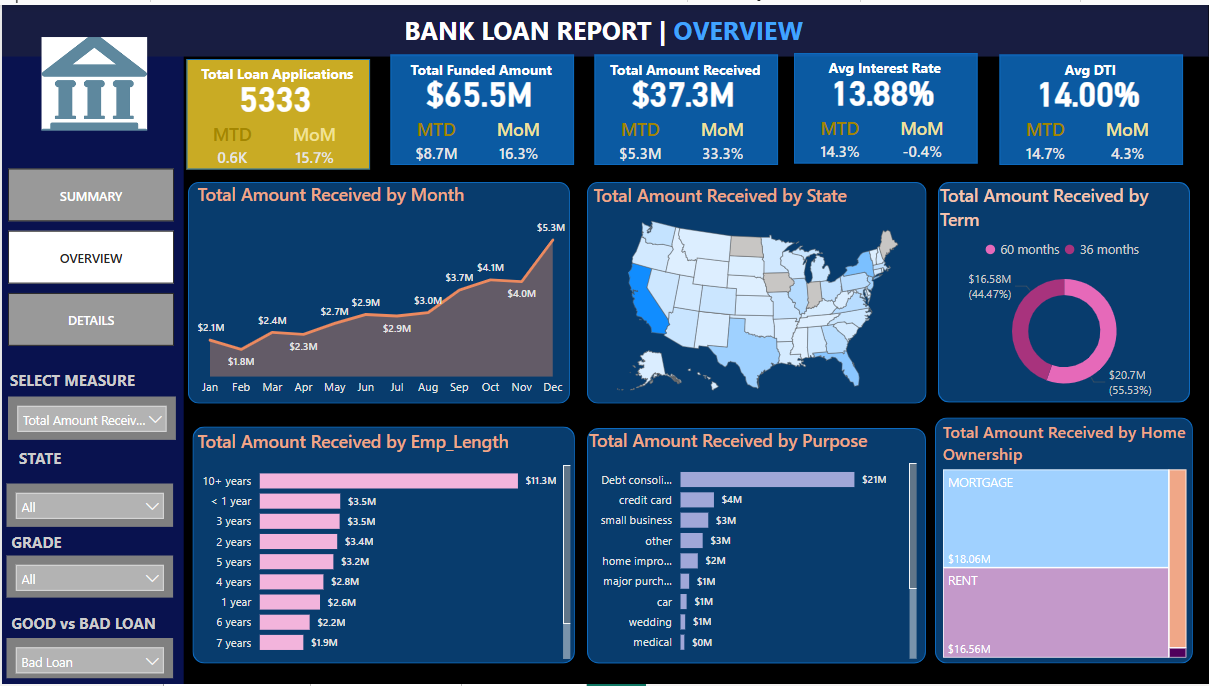

This screenshot's page, from the dashboard's own definition file:
{"tool":"powerbi","page":{"name":"OVERVIEW","canvas":[1280,720],"ordinal":1},"visuals":[{"type":"shape","box":[0,41.6,192.8,679],"z":0},{"type":"shape","box":[196.7,188.3,405,235],"z":1000},{"type":"shape","box":[0,0,1279.4,54.8],"z":2000},{"type":"textbox","box":[421.4,3.8,470.6,51],"z":3000},{"type":"shape","box":[840.1,50.8,194.6,117.2],"z":3000,"group":"g4"},{"type":"shape","box":[411.8,52.5,194.6,117.2],"z":3000,"group":"g2"},{"type":"shape","box":[628.5,52.5,194.6,117.2],"z":3000,"group":"g3"},{"type":"shape","box":[1058.5,52.5,194.6,117.2],"z":3000,"group":"g5"},{"type":"shape","box":[196.8,55.8,194.6,117.2],"z":3000,"group":"g1"},{"type":"card","fields":{"Values":["bank_db financial_loan.Avg Interest Rate"]},"box":[833.3,50,200,82],"z":4000,"group":"g4"},{"type":"card","fields":{"Values":["bank_db financial_loan.Total Funded Amount"]},"box":[405,51.7,200,82],"z":4000,"group":"g2"},{"type":"card","fields":{"Values":["bank_db financial_loan.Total Amount Received"]},"box":[621.7,51.7,200,82],"z":4000,"group":"g3"},{"type":"card","fields":{"Values":["bank_db financial_loan.Avg DTI"]},"box":[1051.7,51.7,200,82],"z":4000,"group":"g5"},{"type":"group","id":"g1","title":"Group 1","box":[190,55,200,118.3],"z":4000},{"type":"card","fields":{"Values":["bank_db financial_loan.Total Loan Application"]},"box":[190,55,200,82],"z":4000,"group":"g1"},{"type":"textbox","box":[845.7,50.8,179.5,35.9],"z":5000,"group":"g4"},{"type":"group","id":"g2","title":"Group 1","box":[405,51.7,200,118.3],"z":5000},{"type":"textbox","box":[417.4,52.5,179.5,35.9],"z":5000,"group":"g2"},{"type":"textbox","box":[634.1,52.5,179.5,35.9],"z":5000,"group":"g3"},{"type":"textbox","box":[1064.1,52.5,179.5,35.9],"z":5000,"group":"g5"},{"type":"textbox","box":[202.4,55.8,179.5,35.9],"z":5000,"group":"g1"},{"type":"group","id":"g3","title":"Group 1","box":[621.7,51.7,200,118.3],"z":6000},{"type":"card","title":"MTD","fields":{"Values":["bank_db financial_loan.MTD Avg Interest Rate"]},"box":[845.3,118,84,50],"z":6000,"group":"g4"},{"type":"card","title":"MTD","fields":{"Values":["bank_db financial_loan.MTD Funded Amount"]},"box":[417,119.7,84,50],"z":6000,"group":"g2"},{"type":"card","title":"MTD","fields":{"Values":["bank_db financial_loan.MTD Total Amount Received"]},"box":[633.7,119.7,84,50],"z":6000,"group":"g3"},{"type":"card","title":"MTD","fields":{"Values":["bank_db financial_loan.MTD avg dti"]},"box":[1063.7,119.7,84,50],"z":6000,"group":"g5"},{"type":"card","title":"MTD","fields":{"Values":["bank_db financial_loan.MTD Loan Applications"]},"box":[202,123,84,50],"z":6000,"group":"g1"},{"type":"group","id":"g4","title":"Group 1","box":[833.3,50,200,118.3],"z":7000},{"type":"card","title":"MoM","fields":{"Values":["bank_db financial_loan.MoM Avg Interest Rate"]},"box":[934,117.7,83.3,50],"z":7000,"group":"g4"},{"type":"card","title":"MoM","fields":{"Values":["bank_db financial_loan.MoM Total Funded Amount"]},"box":[505.7,119.4,83.3,50],"z":7000,"group":"g2"},{"type":"card","title":"MoM","fields":{"Values":["bank_db financial_loan.MoM Total Received Amount"]},"box":[722.4,119.4,83.3,50],"z":7000,"group":"g3"},{"type":"card","title":"MoM","fields":{"Values":["bank_db financial_loan.MoM Avg dti"]},"box":[1152.4,119.4,83.3,50],"z":7000,"group":"g5"},{"type":"card","title":"MoM","fields":{"Values":["bank_db financial_loan.MoM Loan Application"]},"box":[290.7,122.7,83.3,50],"z":7000,"group":"g1"},{"type":"group","id":"g5","title":"Group 1","box":[1051.7,51.7,200,118.3],"z":8000},{"type":"slicer","fields":{"Values":["bank_db financial_loan.address_state"]},"box":[4.8,507.4,176.6,46.1],"z":9000},{"type":"areaChart","fields":{"Y":["bank_db financial_loan.Total Amount Received"],"Category":["Date Table.Month"]},"box":[201.7,188.3,400,235],"z":10000},{"type":"textbox","box":[13,464.9,127.2,31.8],"z":10000,"group":"g6"},{"type":"slicer","fields":{"Values":["Select Measure.Select Measure"]},"box":[6.4,415.1,178.1,46.1],"z":11000},{"type":"slicer","fields":{"Values":["bank_db financial_loan.grade"]},"box":[5.2,584.1,176.7,44.4],"z":11000,"group":"g6"},{"type":"shape","box":[620,188.3,360,235],"z":12000},{"type":"slicer","fields":{"Values":["bank_db financial_loan.Good Vs Bad Loan"]},"box":[5.2,671.5,176.7,43],"z":12000,"group":"g6"},{"type":"shape","box":[992.5,187.7,267.2,233.8],"z":13000},{"type":"textbox","box":[4.6,640.2,176.6,31.1],"z":13000,"group":"g6"},{"type":"shape","box":[202,447,405.6,251.3],"z":14000},{"type":"textbox","box":[5.2,553,126.7,31.1],"z":14000,"group":"g6"},{"type":"barChart","fields":{"Y":["bank_db financial_loan.Total Amount Received"],"Category":["bank_db financial_loan.emp_length"]},"box":[202,450.1,405.6,248.1],"z":15000},{"type":"shapeMap","fields":{"Value":["bank_db financial_loan.Total Amount Received"],"Category":["bank_db financial_loan.address_state"]},"box":[621.9,189.3,357.9,233.8],"z":16000},{"type":"donutChart","fields":{"Y":["bank_db financial_loan.Total Amount Received"],"Category":["bank_db financial_loan.term"]},"box":[989.4,189.3,273.6,233.8],"z":17000},{"type":"textbox","box":[3.7,381.6,158.2,32.3],"z":17000,"group":"g6"},{"type":"shape","box":[620.3,448.6,359.5,249.7],"z":18000},{"type":"barChart","fields":{"Y":["bank_db financial_loan.Total Amount Received"],"Category":["bank_db financial_loan.purpose"]},"box":[617.2,448.6,357.9,249.7],"z":19000},{"type":"shape","box":[989.4,437.4,273.6,260.9],"z":20000},{"type":"treemap","fields":{"Values":["bank_db financial_loan.Total Amount Received"],"Group":["bank_db financial_loan.home_ownership"]},"box":[992.5,440.6,268,256.1],"z":21000},{"type":"group","id":"g6","title":"Group 2","box":[3.7,173.6,179.1,540.9],"z":22000},{"type":"image","box":[36.6,28.6,122.5,109.8],"z":23000},{"type":"pageNavigator","box":[6.2,173.6,176.6,188],"z":28000,"group":"g6"}]}

Visuals, with their boxes in screenshot pixels (x1, y1, x2, y2), scaled from the page's 1280x720 canvas onto the 1209x686 screenshot:
shape: 0:40:182:685
shape: 186:179:568:403
shape: 0:0:1208:52
textbox: 398:4:843:52
shape: 794:48:977:160
shape: 389:50:573:162
shape: 594:50:777:162
shape: 1000:50:1184:162
shape: 186:53:370:165
card - bank_db financial_loan.Avg Interest Rate: 787:48:976:126
card - bank_db financial_loan.Total Funded Amount: 383:49:571:127
card - bank_db financial_loan.Total Amount Received: 587:49:776:127
card - bank_db financial_loan.Avg DTI: 993:49:1182:127
"Group 1" group: 179:52:368:165
card - bank_db financial_loan.Total Loan Application: 179:52:368:131
textbox: 799:48:968:83
"Group 1" group: 383:49:571:162
textbox: 394:50:564:84
textbox: 599:50:768:84
textbox: 1005:50:1175:84
textbox: 191:53:361:87
"Group 1" group: 587:49:776:162
"MTD" card: 798:112:878:160
"MTD" card: 394:114:473:162
"MTD" card: 599:114:678:162
"MTD" card: 1005:114:1084:162
"MTD" card: 191:117:270:165
"Group 1" group: 787:48:976:160
"MoM" card: 882:112:961:160
"MoM" card: 478:114:556:161
"MoM" card: 682:114:761:161
"MoM" card: 1088:114:1167:161
"MoM" card: 275:117:353:165
"Group 1" group: 993:49:1182:162
slicer - bank_db financial_loan.address_state: 5:483:171:527
areaChart - bank_db financial_loan.Total Amount Received x Date Table.Month: 191:179:568:403
textbox: 12:443:132:473
slicer - Select Measure.Select Measure: 6:395:174:439
slicer - bank_db financial_loan.grade: 5:557:172:599
shape: 586:179:926:403
slicer - bank_db financial_loan.Good Vs Bad Loan: 5:640:172:681
shape: 937:179:1190:402
textbox: 4:610:171:640
shape: 191:426:574:665
textbox: 5:527:125:557
barChart - bank_db financial_loan.Total Amount Received x bank_db financial_loan.emp_length: 191:429:574:665
shapeMap - bank_db financial_loan.Total Amount Received x bank_db financial_loan.address_state: 587:180:925:403
donutChart - bank_db financial_loan.Total Amount Received x bank_db financial_loan.term: 935:180:1193:403
textbox: 3:364:153:394
shape: 586:427:925:665
barChart - bank_db financial_loan.Total Amount Received x bank_db financial_loan.purpose: 583:427:921:665
shape: 935:417:1193:665
treemap - bank_db financial_loan.Total Amount Received x bank_db financial_loan.home_ownership: 937:420:1191:664
"Group 2" group: 3:165:173:681
image: 35:27:150:132
pageNavigator: 6:165:173:345
